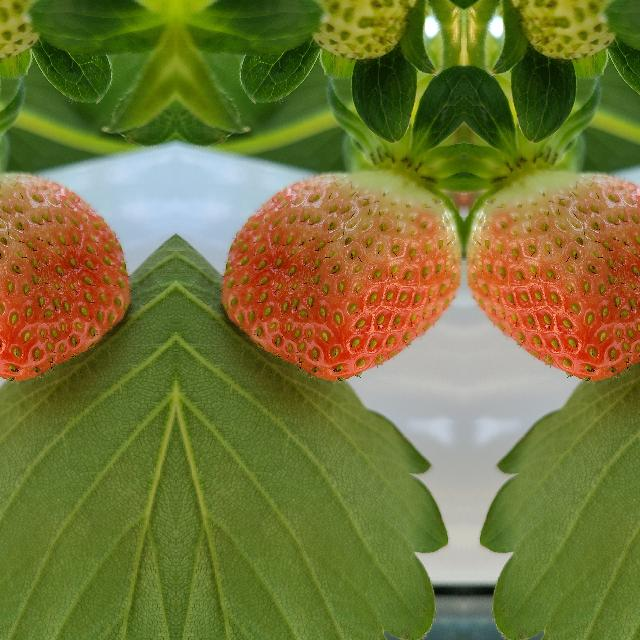Health_100: (216, 171, 462, 385), (464, 171, 640, 385), (0, 171, 134, 385)
